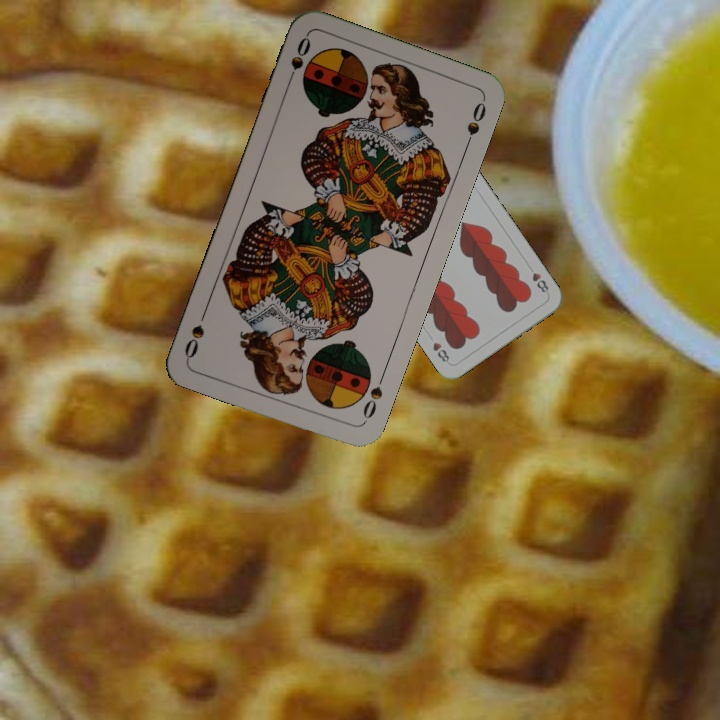H8: (528, 268, 551, 295)
SO: (282, 33, 314, 89), (358, 369, 388, 426)
